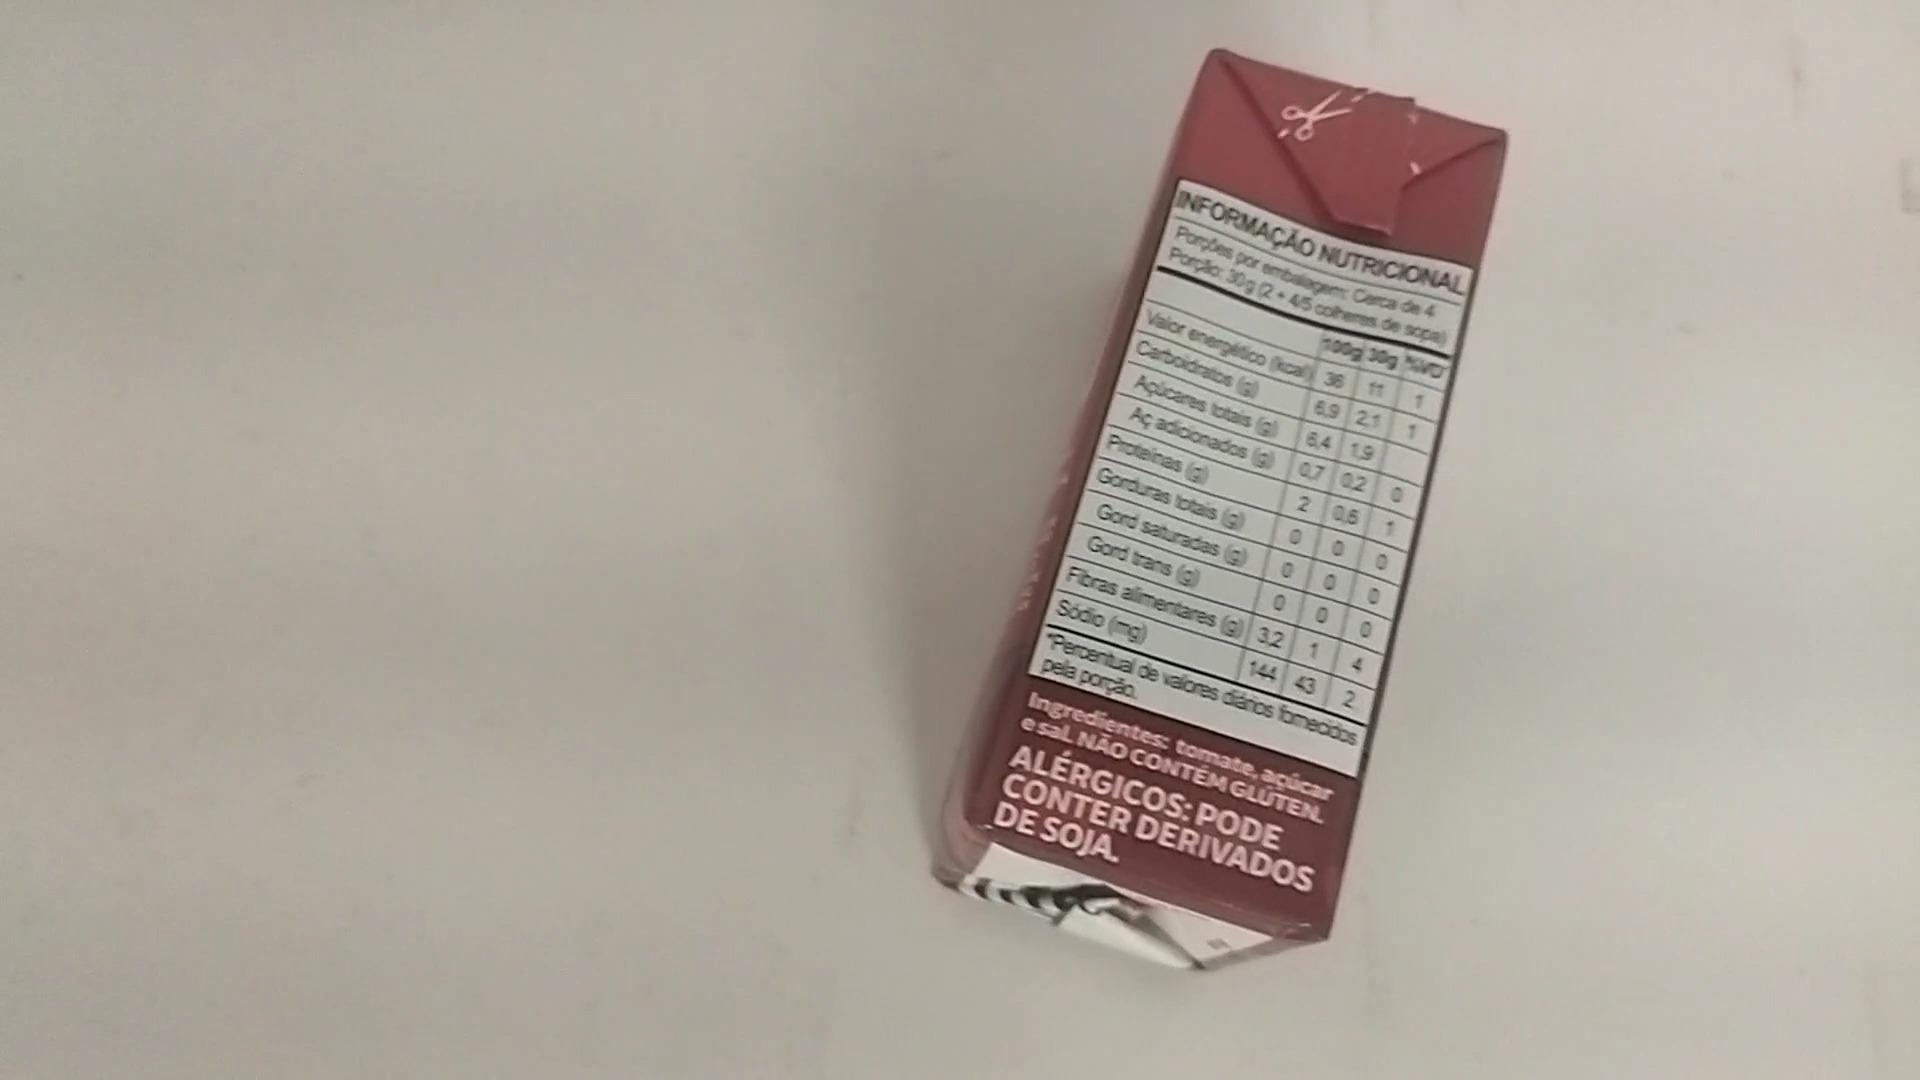tomate: (919, 40, 1513, 976)
